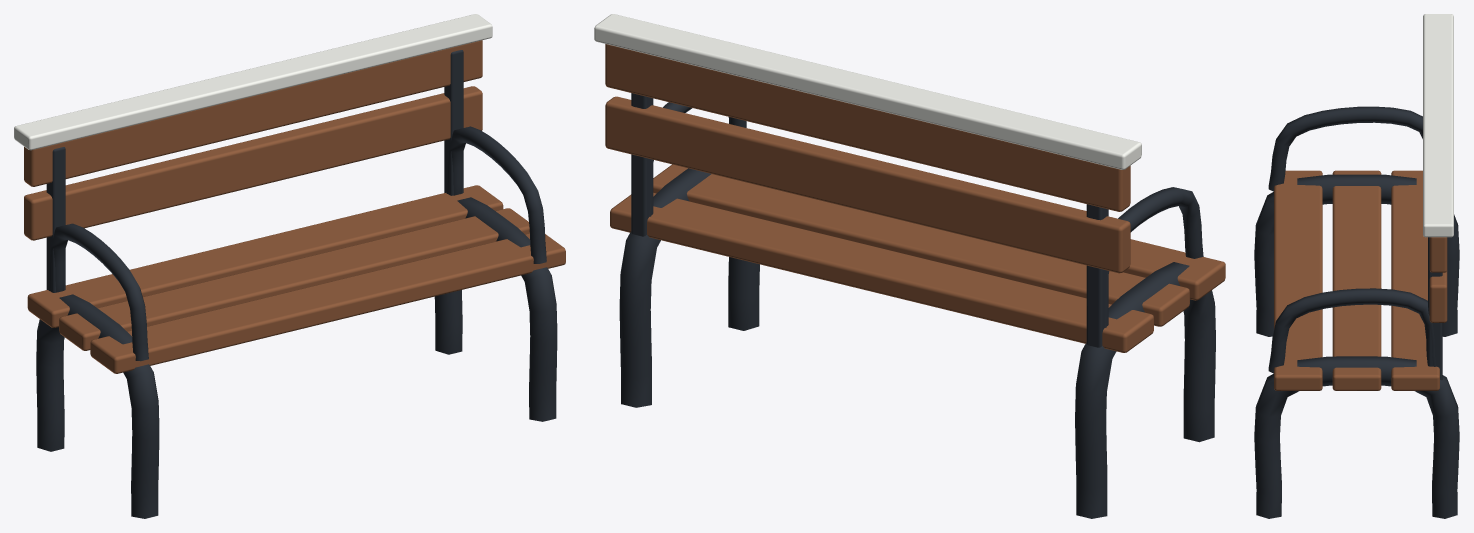
File: christmas-storybook-park-bench-2db787dc__18778.glb
3 renders of one model, left to right at view 1: azimuth 30°, elevation 25°; view 2: azimuth 150°, elevation 25°; view 3: azimuth 270°, elevation 25°, orthographic. The views are drawn at different scales.
Visible parts, largest first — view 1: oak, ink, cream; view 2: oak, ink, cream; view 3: oak, ink, cream.
Boxes of the visible parts, <box> form: oak: <box>24,40,565,373</box>; ink: <box>36,50,557,518</box>; cream: <box>14,14,492,150</box>; oak: <box>605,44,1225,352</box>; ink: <box>619,93,1215,518</box>; cream: <box>594,14,1141,169</box>; oak: <box>1274,170,1447,390</box>; ink: <box>1254,106,1459,518</box>; cream: <box>1423,14,1453,237</box>.
Bounding box in the file's own units: 1.54 × 1.03 × 0.6295.
